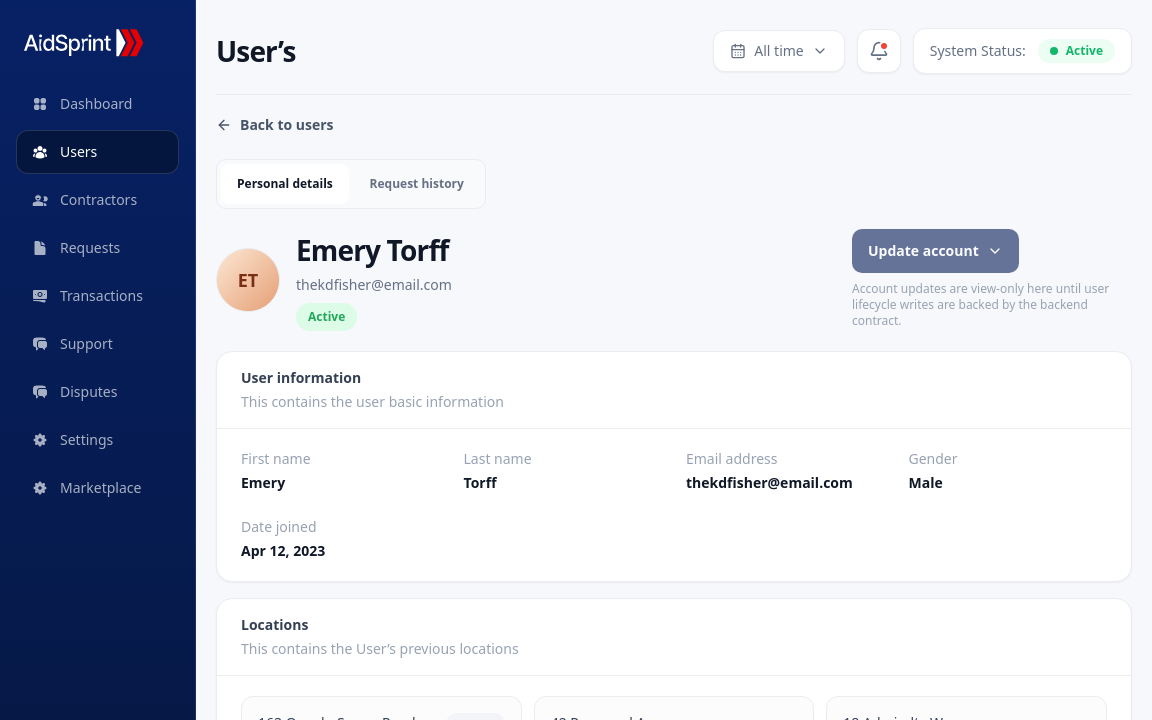
Test: UserDetailsPage › renders account and request actions as read-only when live writes are disabled
Expected: the button "Update account" is disabled, [852, 229, 1019, 273]
Expected: the text "Account updates are view-only here until user lifecycle writes are backed by the backend contract." is shown, [852, 280, 1109, 329]
Click the tab "Request history" at (417, 184), box [353, 164, 481, 204]
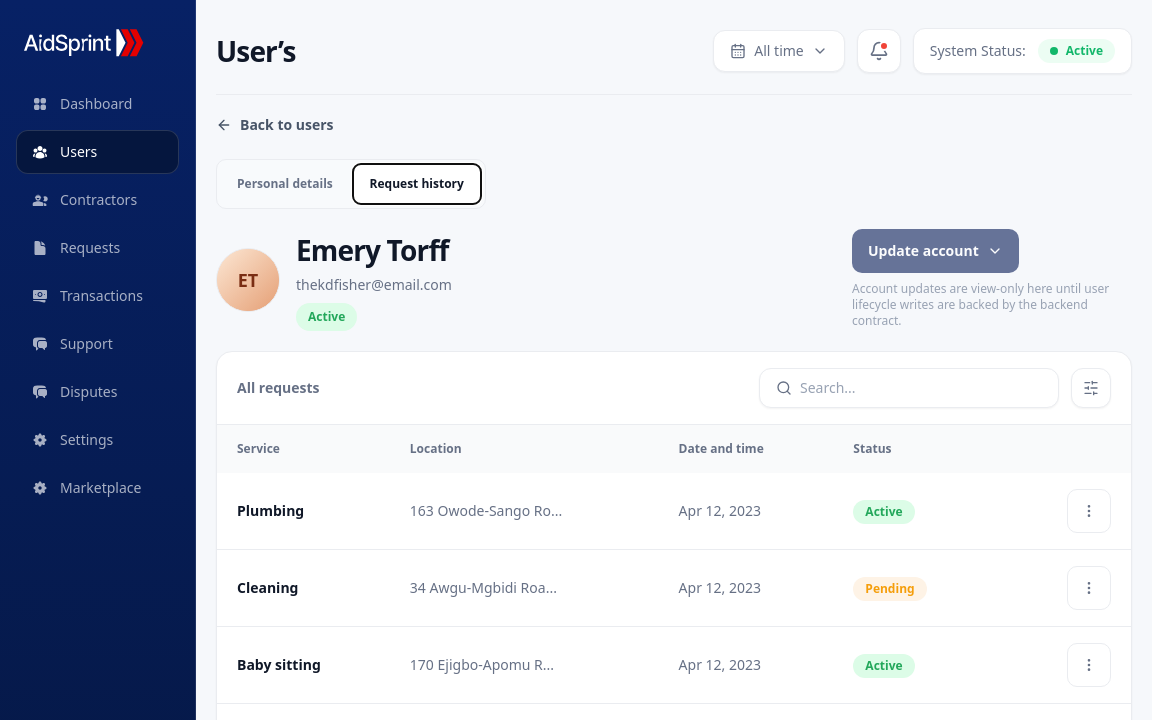
Click the button named "Open request details for Plumbing" at (1089, 511), box [1067, 489, 1111, 533]
(page scrolled)
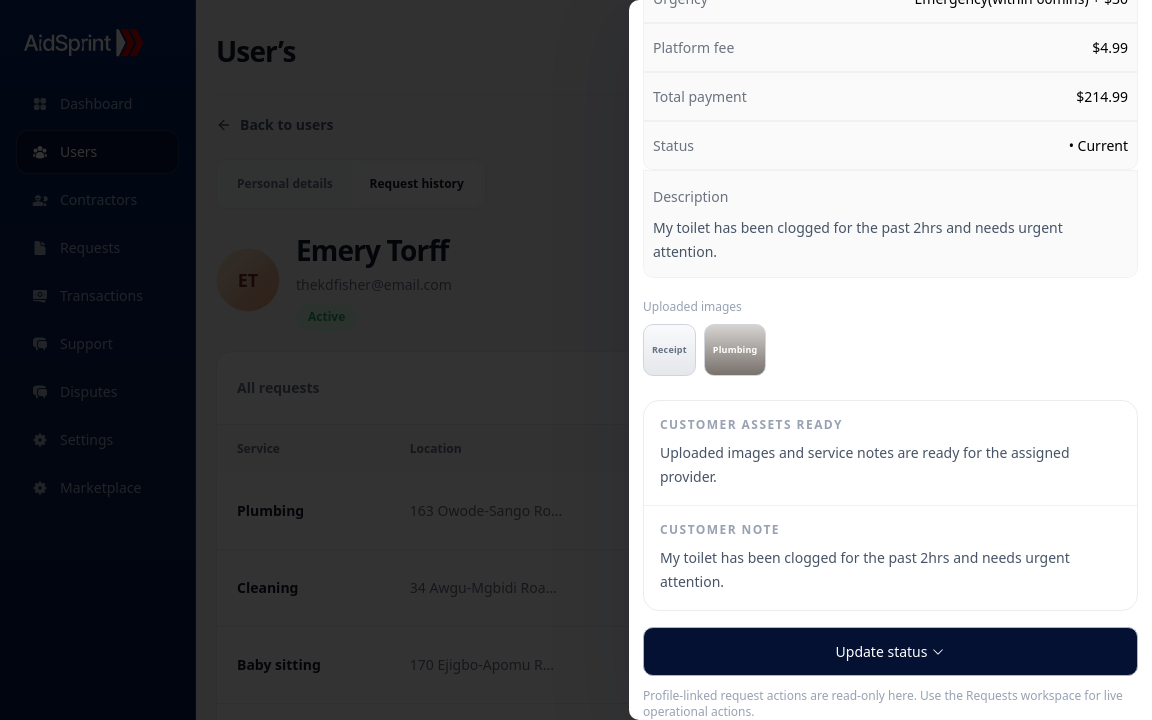
Expected: the button with aria-label "Update request status" is disabled, [643, 627, 1138, 676]
Expected: the text "Profile-linked request actions are read-only here. Use the Requests workspace for live operational actions." is shown 2 times
